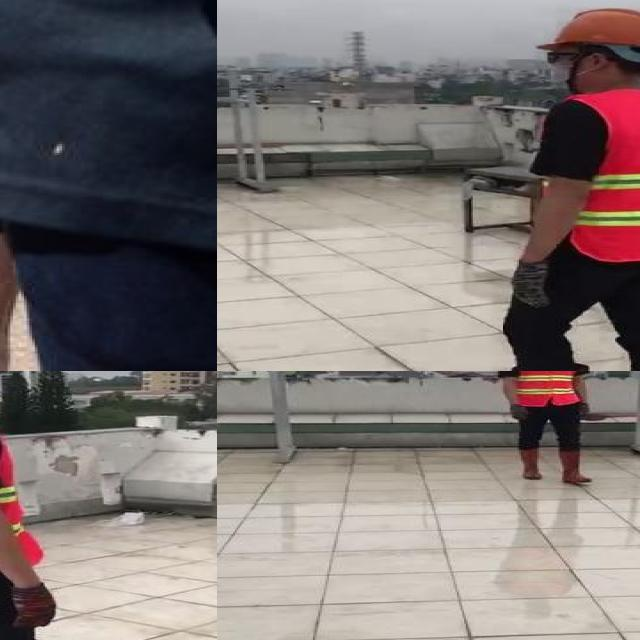boots: (558, 448, 596, 483), (516, 446, 546, 480)
face_mask: (536, 45, 587, 88)
hand_glove: (6, 587, 59, 628), (507, 262, 552, 310), (578, 403, 594, 421), (506, 411, 532, 421)
head_helmet: (532, 3, 640, 53)
person: (456, 0, 640, 371), (0, 371, 113, 640), (494, 371, 602, 487)
vest: (565, 91, 640, 261), (0, 408, 37, 580), (512, 371, 578, 407)
